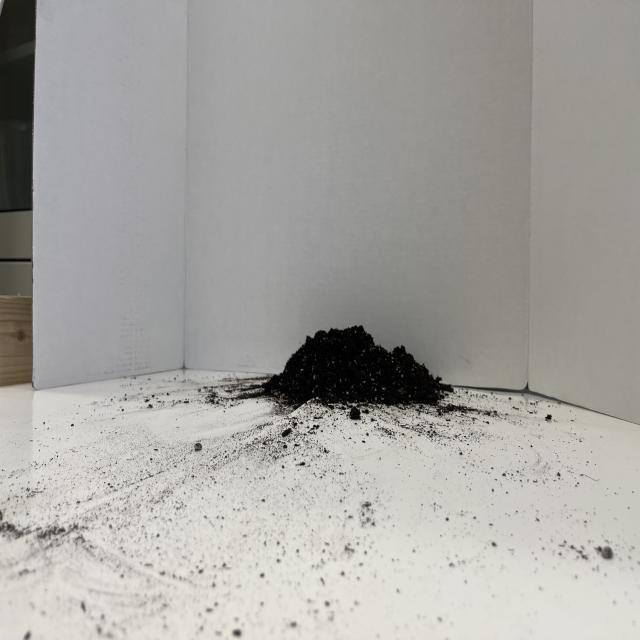soil: (262, 321, 454, 412)
